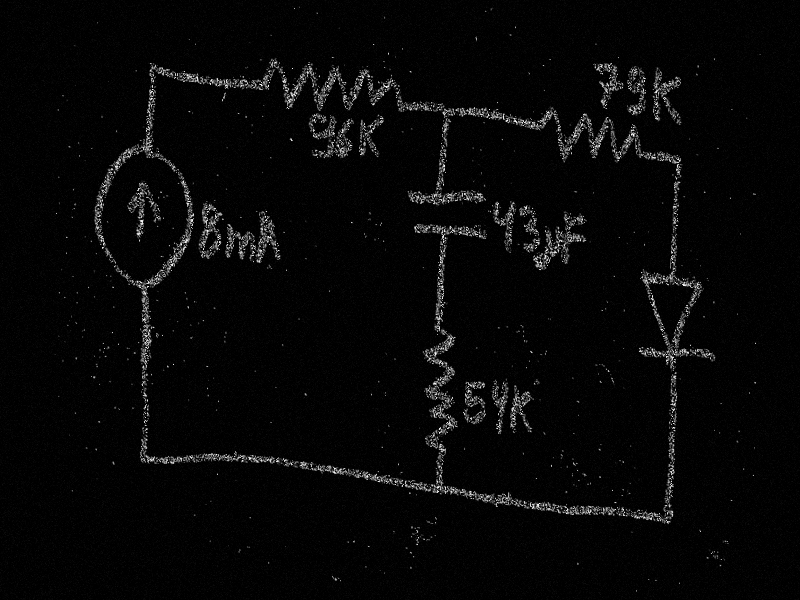3: (516, 203, 542, 257)
4: (491, 195, 517, 257), (490, 376, 509, 438)
5: (461, 377, 487, 428)
6: (336, 114, 354, 163)
7: (591, 57, 625, 112)
8: (197, 199, 224, 262)
9: (307, 111, 336, 164), (624, 65, 648, 119)
A: (255, 209, 281, 269)
F: (561, 210, 587, 266)
k: (650, 65, 684, 128), (358, 112, 384, 162), (510, 384, 533, 437)
m: (223, 222, 257, 265)
u: (540, 224, 562, 271)
